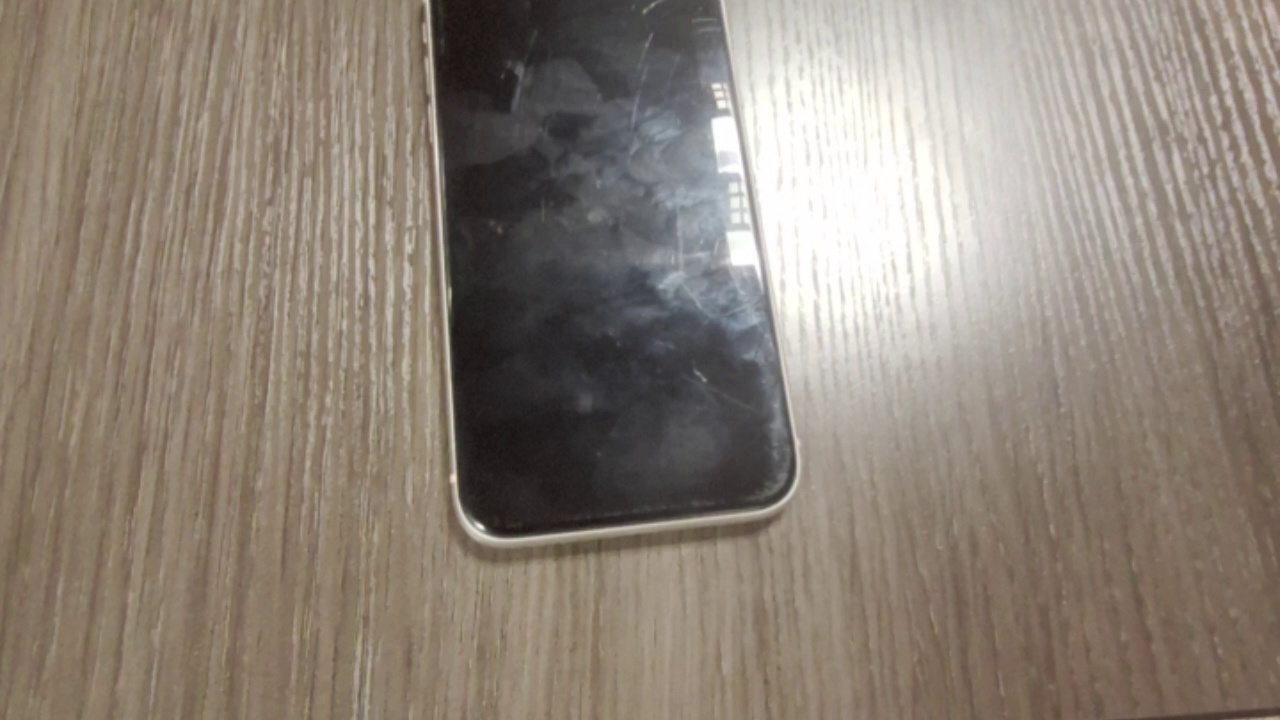celular: (435, 5, 801, 551)
